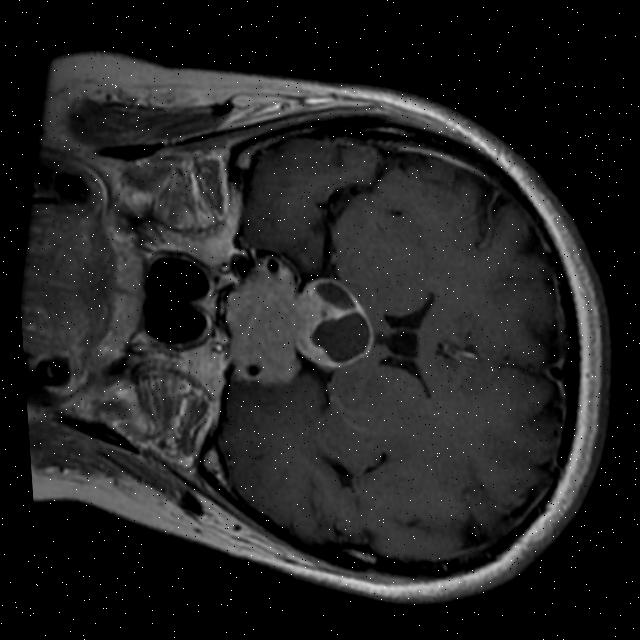Pituitary: (210, 252, 387, 393)
